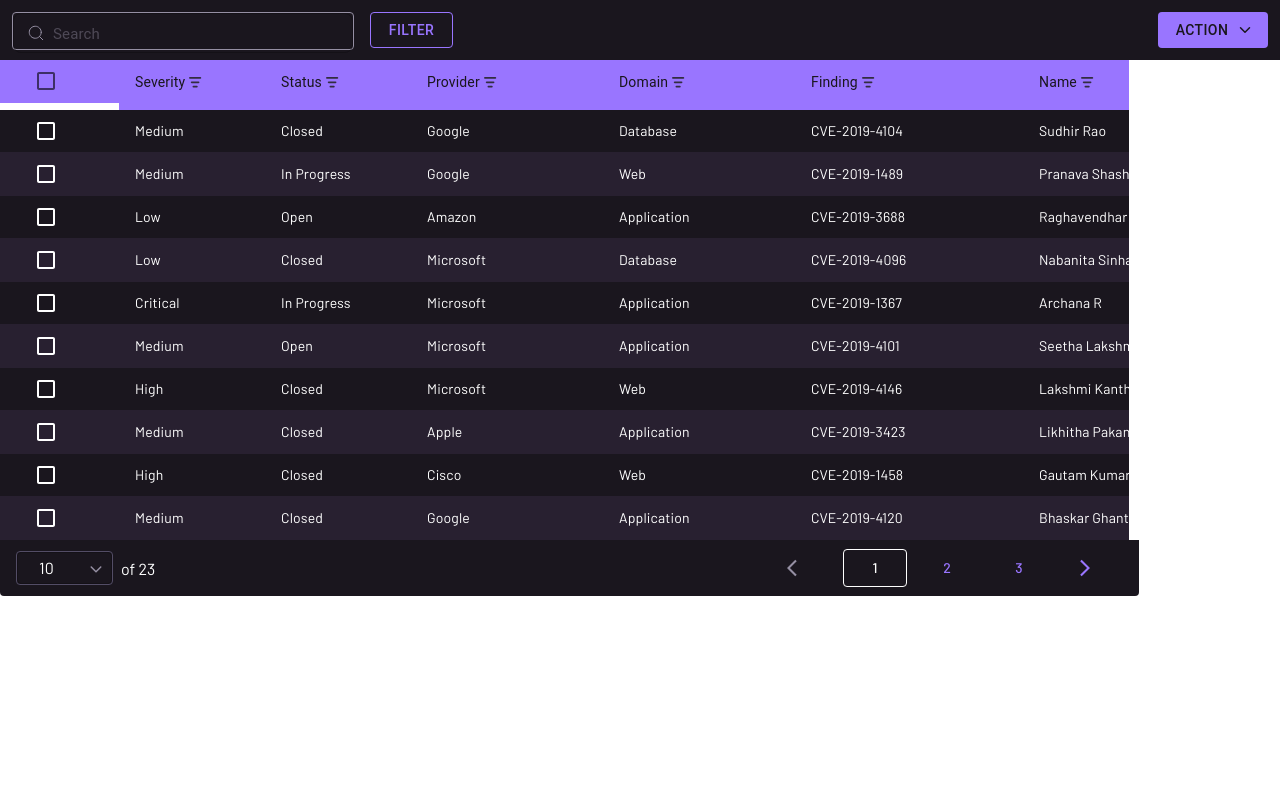
SecurityDataTable Component › should filter data properly
The image size is (1280, 800).
Expected: the text "of 23" is shown, [121,558,155,578]
Expected: the text "Sudhir Rao" is shown, [1039,122,1106,139]
Type "Medium" into the field with placeholder "Search". click: (203, 33)
box: [53,13,353,53]
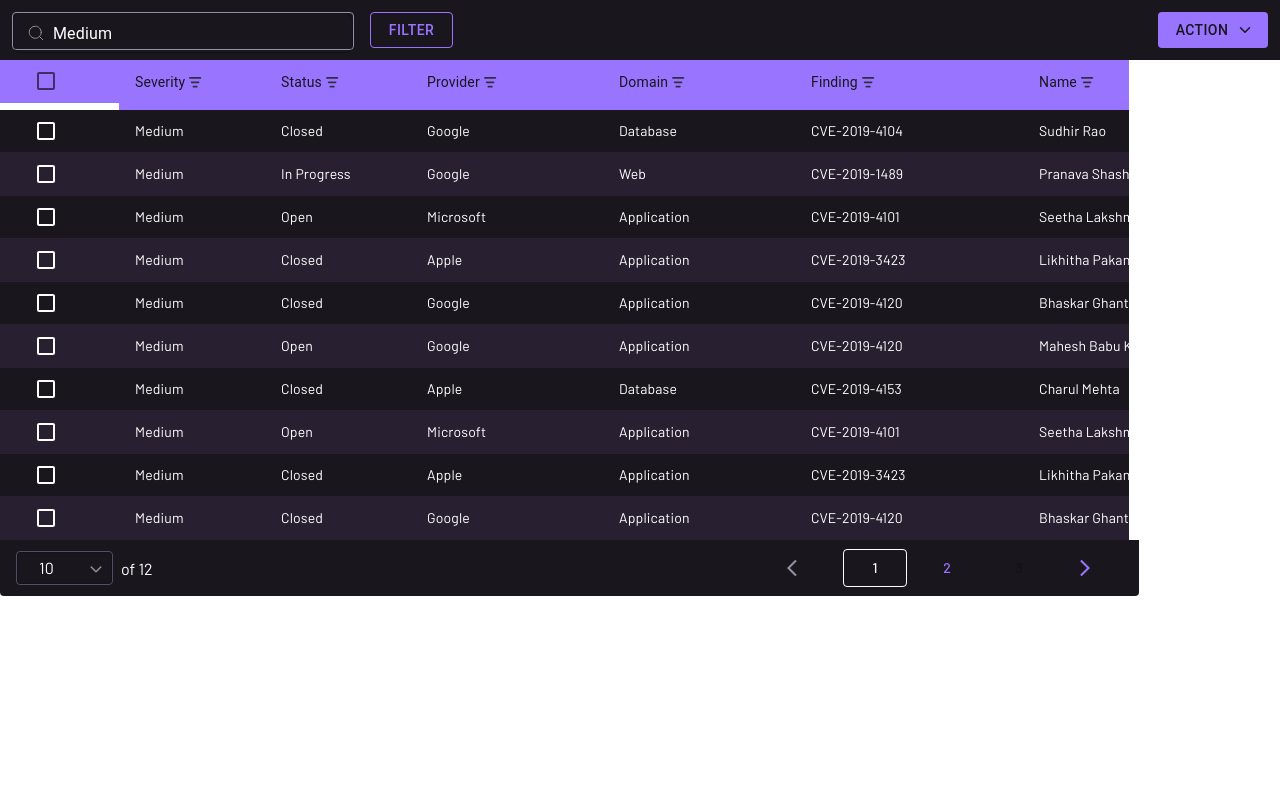
Expected: the text "Sudhir Rao" is shown, [1039,122,1106,139]
Now the text "Raghavendhar J" is gone
Now the text "of 12" is shown, box [121,558,153,578]
